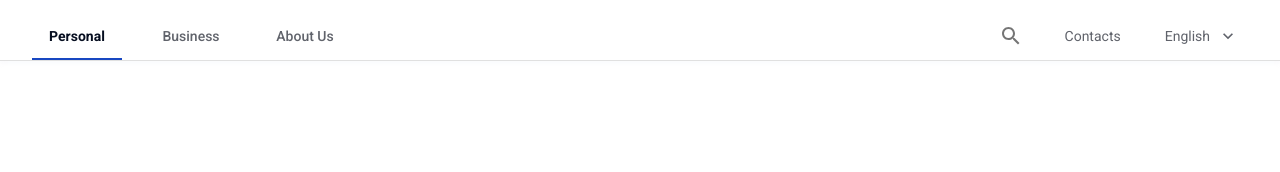
Test: WelcomeHeader › Language dropdown › opens language menu when language text is clicked
Click the text "English" at (1187, 36), box [1165,29,1210,43]
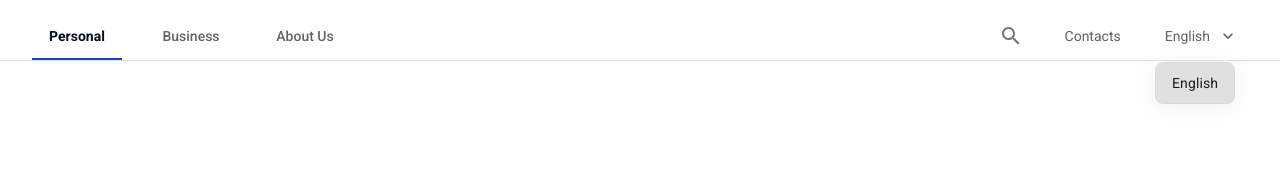
Expected: the menu item "English" is shown, [1156,63,1234,103]
